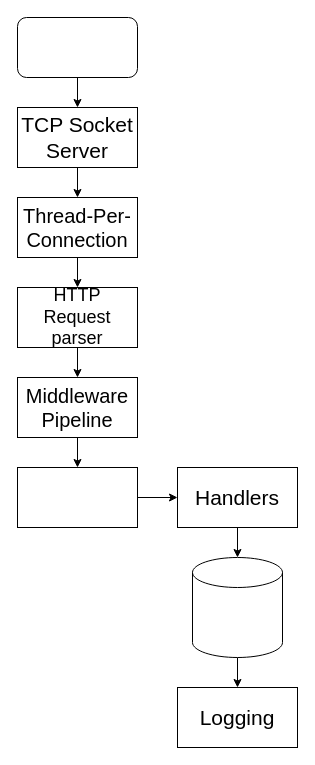
The diagram is 315 pixels wide and 765 high, and some of its shapes have lost their labels. Each missing label, with the centre of its shape:
Clients: the point at 77,47
MiniDB: the point at 237,607
Router: the point at 77,497
